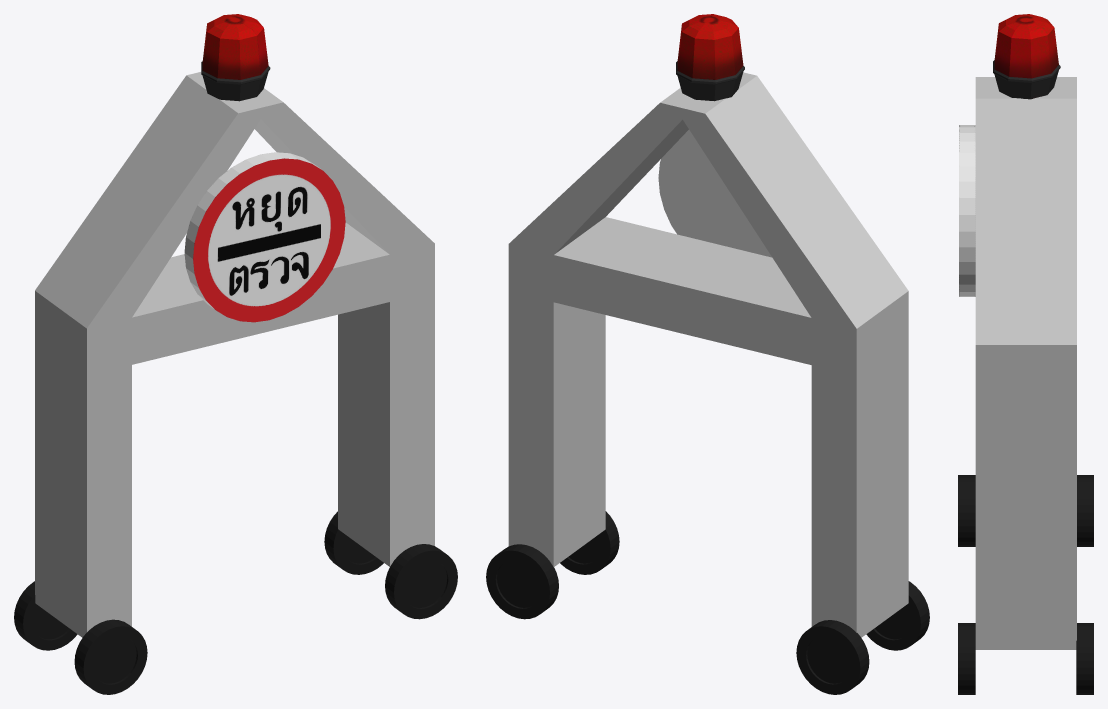
File: police_stand.fbx
3 renders of one model, left to right at view 1: azimuth 30°, elevation 25°; view 2: azimuth 150°, elevation 25°; view 3: azimuth 270°, elevation 25°, orthographic. The views are drawn at different scales.
Parts seen in each view (by area): view 1: Cube.003, Cylinder.001, Cylinder, Cylinder.002; view 2: Cube.003, Cylinder, Cylinder.001, Cylinder.002; view 3: Cube.003, Cylinder, Cylinder.002, Cylinder.001.
Boxes of the visible parts, box(x1,y1,x2,y2) form: Cube.003: box(35, 72, 434, 637); Cylinder.001: box(184, 152, 345, 322); Cylinder: box(14, 511, 457, 694); Cylinder.002: box(201, 14, 270, 101); Cube.003: box(508, 72, 908, 637); Cylinder: box(486, 511, 929, 694); Cylinder.001: box(658, 130, 771, 257); Cylinder.002: box(676, 14, 744, 101); Cube.003: box(975, 77, 1076, 649); Cylinder: box(958, 475, 1093, 694); Cylinder.002: box(993, 14, 1060, 99); Cylinder.001: box(959, 125, 975, 296).
Bounding box in the file's own units: 166 × 258 × 53.3.
